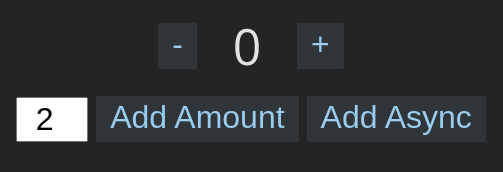
Test: Increment and decrement value › increase custom amount (default=2)
Click the button with aria-label "Increment custom amount": (197, 119) [96, 96, 298, 142]
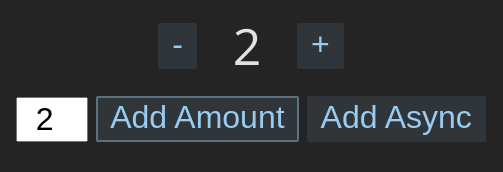
Result: the text named "Counter" reads "2" at [233, 12, 261, 80]
